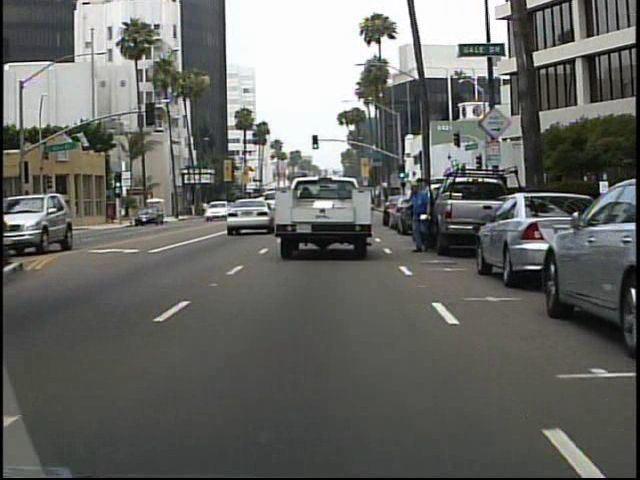person: (405, 179, 434, 254)
